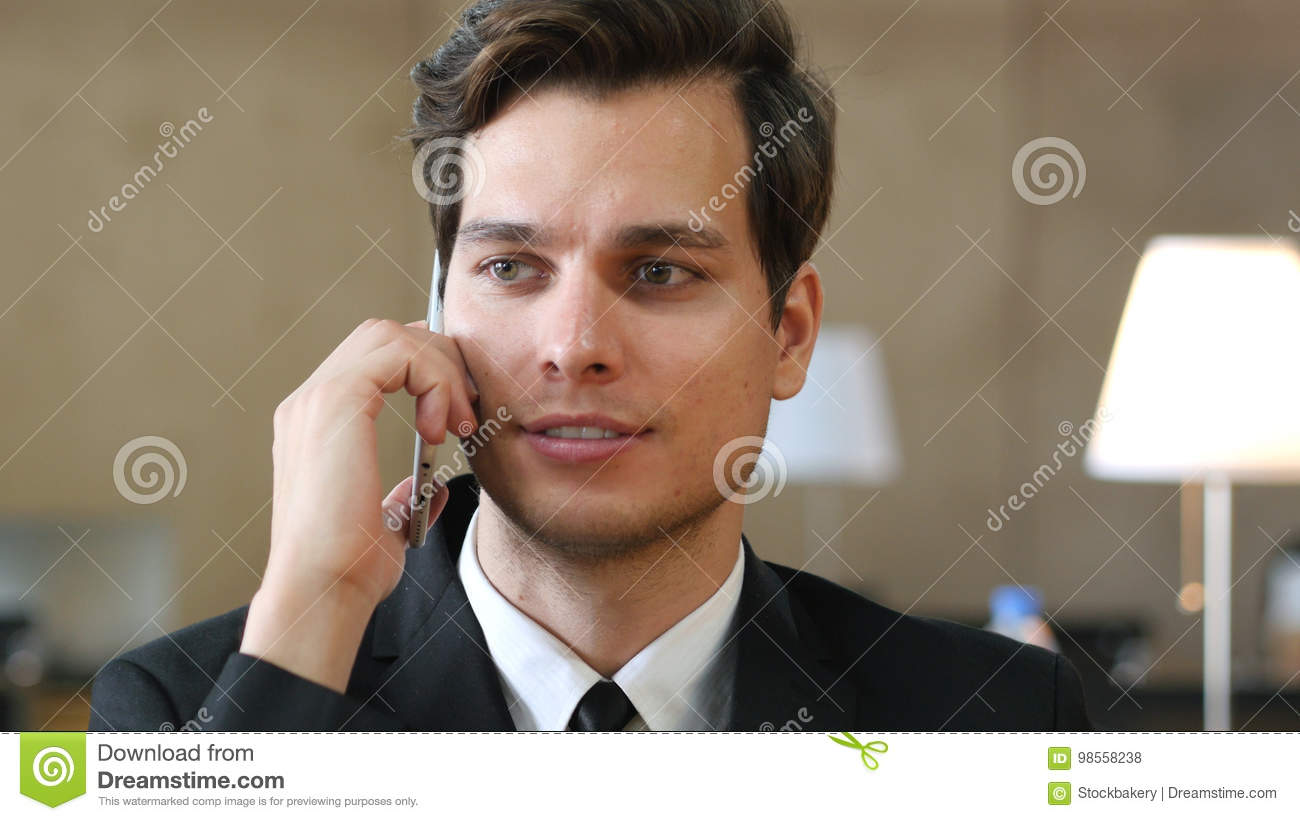phone: (401, 226, 453, 549)
talk: (260, 186, 737, 641)
